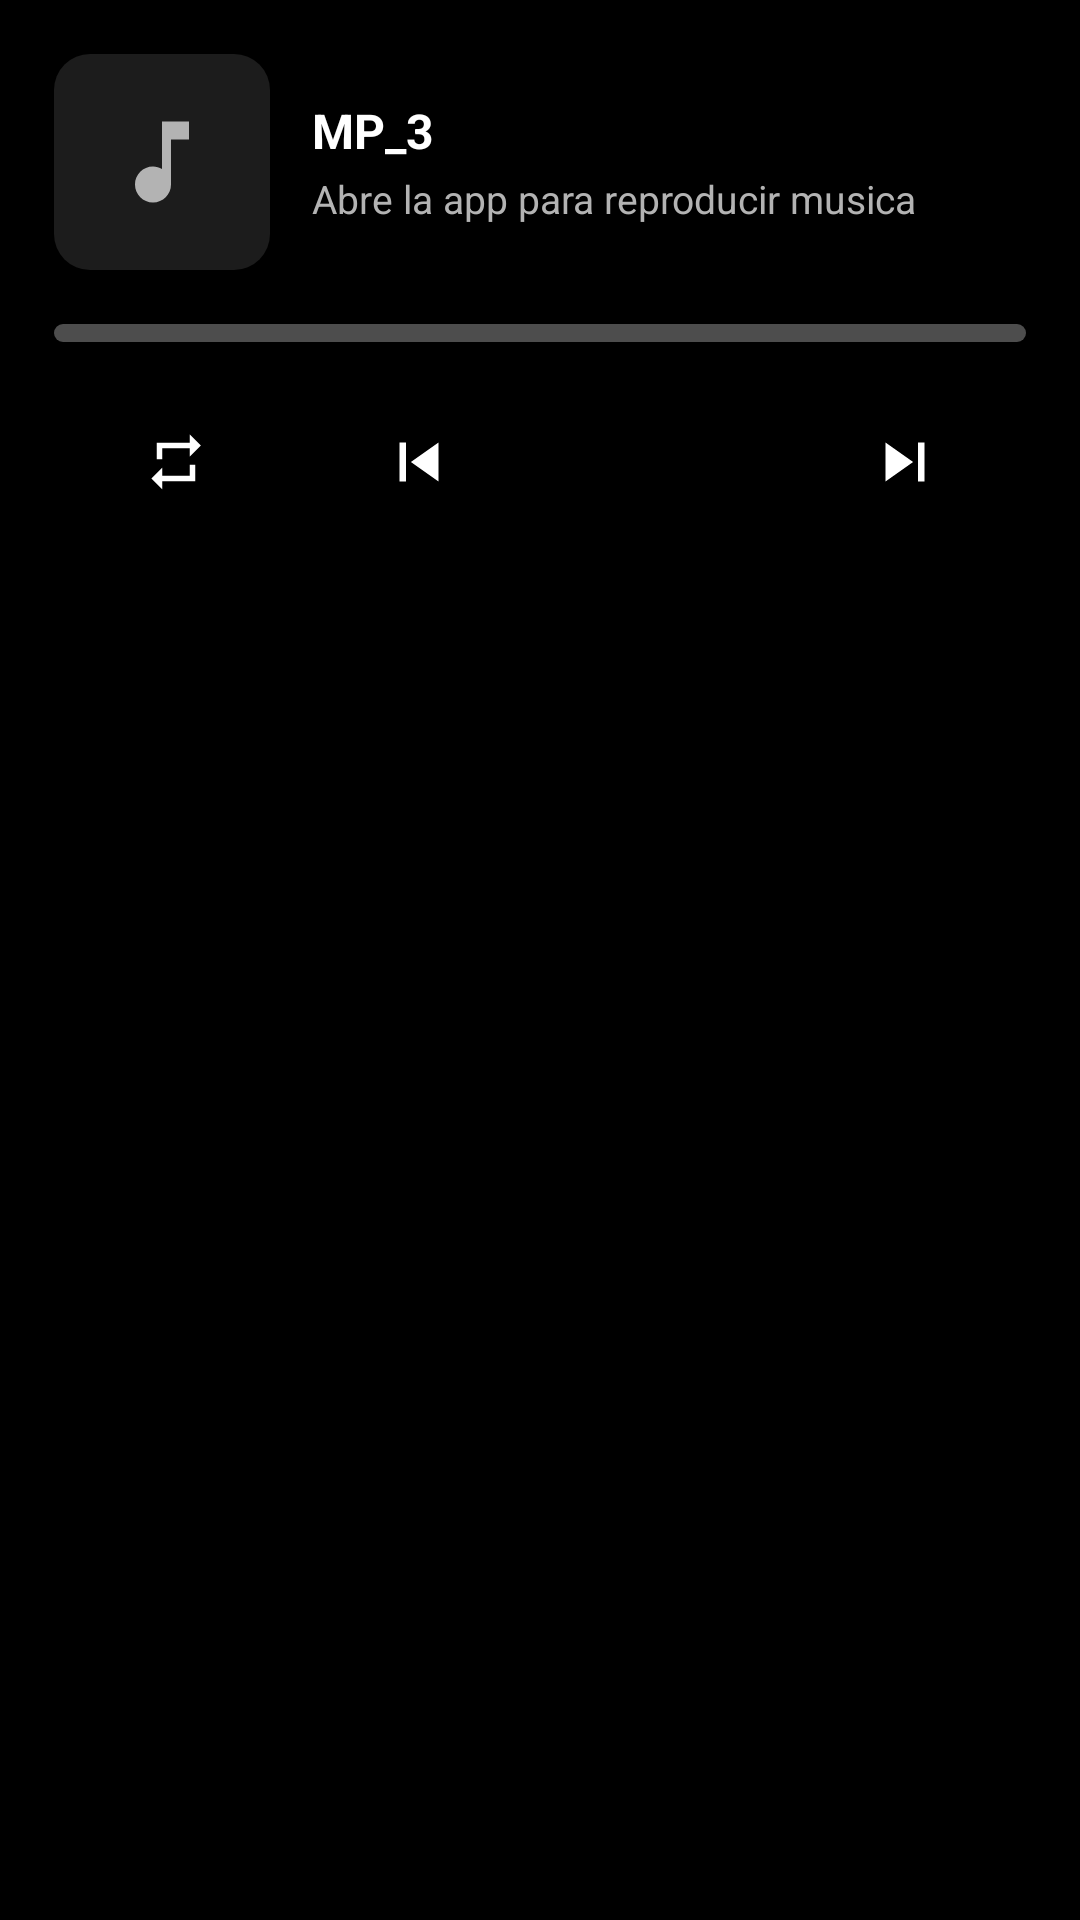

Icons on this 1080 x 1920 Android screen, each with its box as {"x1": x1, "y1": y1, "x2": x2, "y2": y2}:
Anterior: {"x1": 399, "y1": 442, "x2": 439, "y2": 482}
Modo de reproduccion: {"x1": 151, "y1": 434, "x2": 201, "y2": 489}
music note: {"x1": 54, "y1": 54, "x2": 270, "y2": 270}
Siguiente: {"x1": 885, "y1": 442, "x2": 925, "y2": 482}
